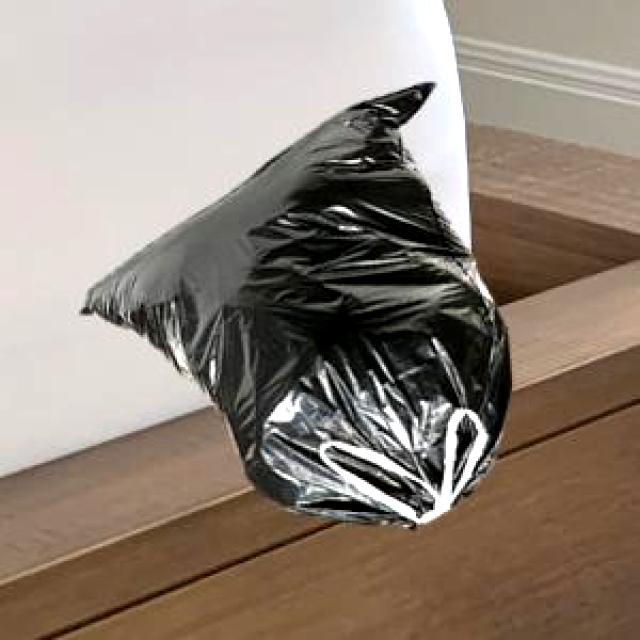Garbage_Bag: (78, 80, 509, 526)
